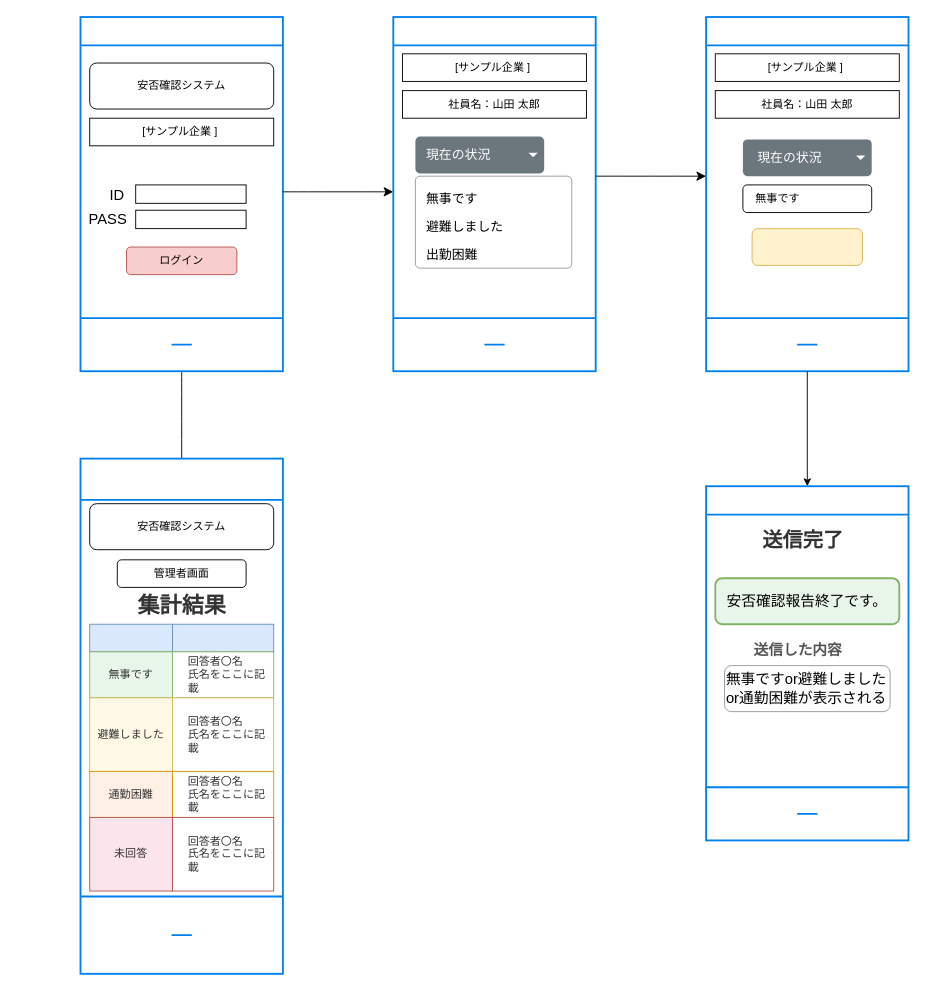
The diagram is 933 pixels wide and 990 high, and some of its shapes have lost their labels. Each missing label, with the centre of its shape:
回答状況: pixel 130 637
回答者: pixel 223 637
送信: pixel 806 246
